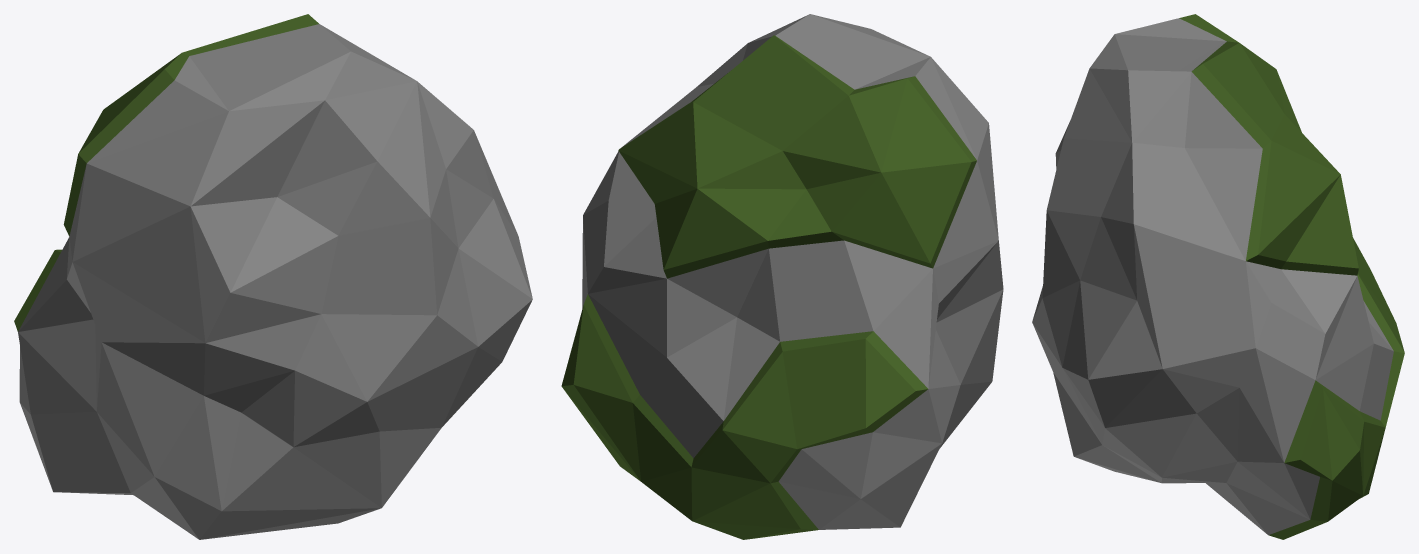
File: JangleRock 1.fbx
The picture shows the model from 3 angles, left to right: view 1: azimuth 30°, elevation 25°; view 2: azimuth 150°, elevation 25°; view 3: azimuth 270°, elevation 25°; orthographic projection. The views are drawn at different scales.
Visible parts, largest first — view 1: MossyStone; view 2: MossyStone; view 3: MossyStone.
Boxes of the visible parts, bbox=[...] form: MossyStone: bbox=[14, 14, 532, 539]; MossyStone: bbox=[561, 14, 1003, 539]; MossyStone: bbox=[1032, 14, 1404, 539].
Size of the model in its own units: 6.23 by 7.26 by 5.22.
